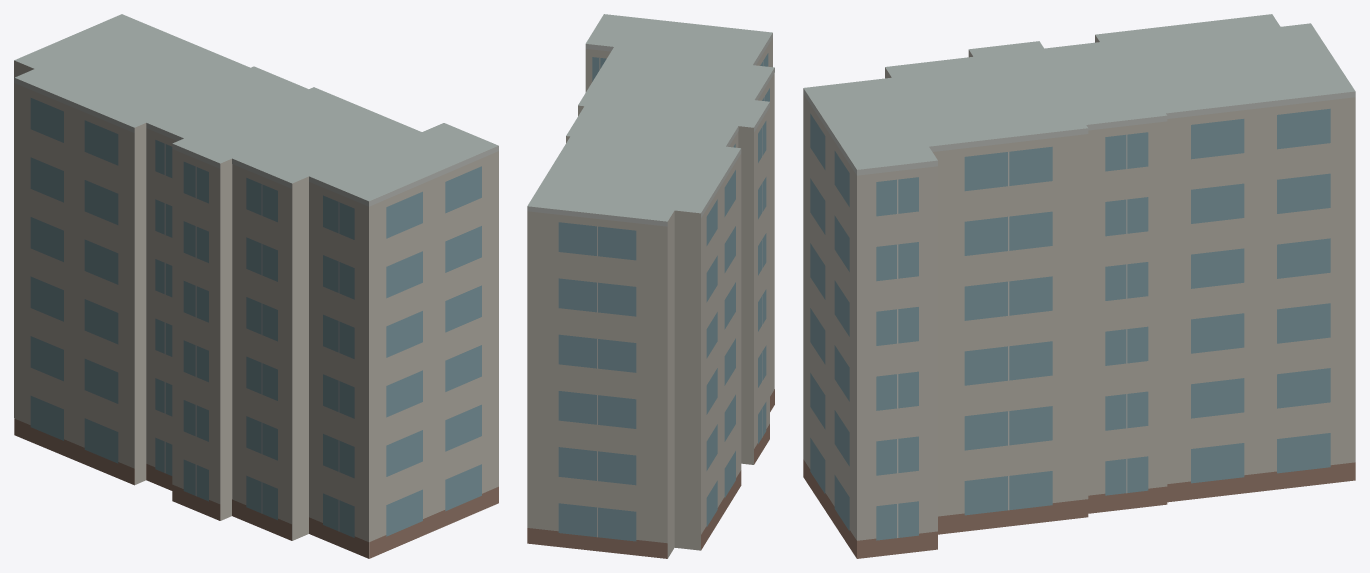
Rendered from survey-upis-32974141.glb.
3 renders of one model, left to right at view 1: azimuth 30°, elevation 25°; view 2: azimuth 150°, elevation 25°; view 3: azimuth 270°, elevation 25°, orthographic. The views are drawn at different scales.
Visible parts, largest first — view 1: survey-upis-32974141.tmp; view 2: survey-upis-32974141.tmp; view 3: survey-upis-32974141.tmp.
Part boxes in pixels (x1,y1,x2,y2): survey-upis-32974141.tmp: [14, 14, 498, 558]; survey-upis-32974141.tmp: [527, 14, 774, 558]; survey-upis-32974141.tmp: [803, 14, 1355, 558].
Bounding box in the file's own units: 14.11 × 16.4 × 21.12.
